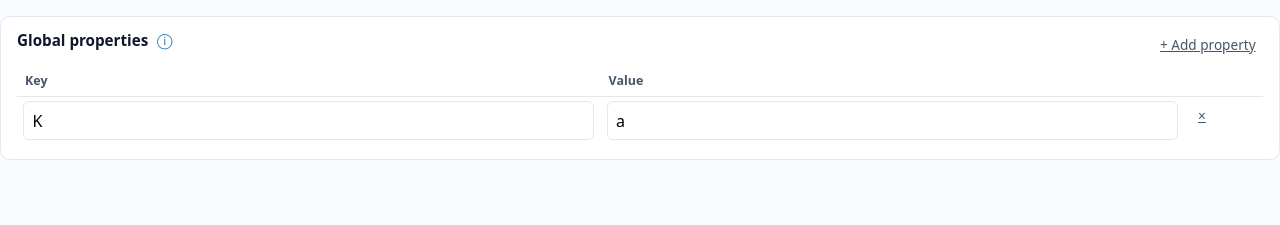
Test: GlobalPropertiesEditor — validation › flags a duplicate key
The width and height of the screenshot is (1280, 225).
Click the button "+ Add property". click: (1208, 45)
box: [1152,31,1263,59]
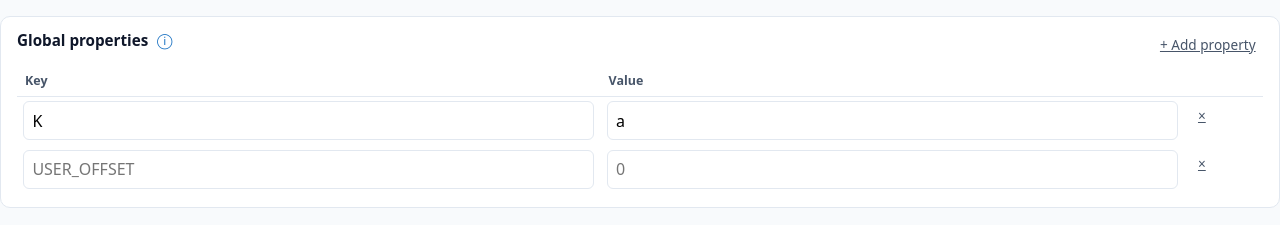
Type "K" into the field named "global property 2 key". click: (309, 169)
box: [23,150,594,189]
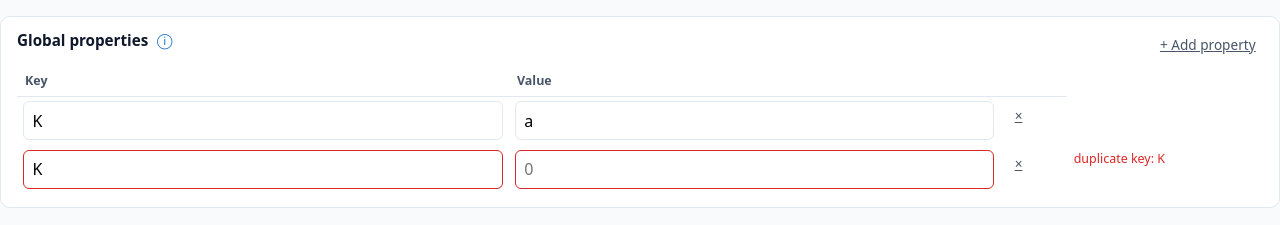
Check: the text "duplicate key: K" is shown, box [1067,145,1263,193]
